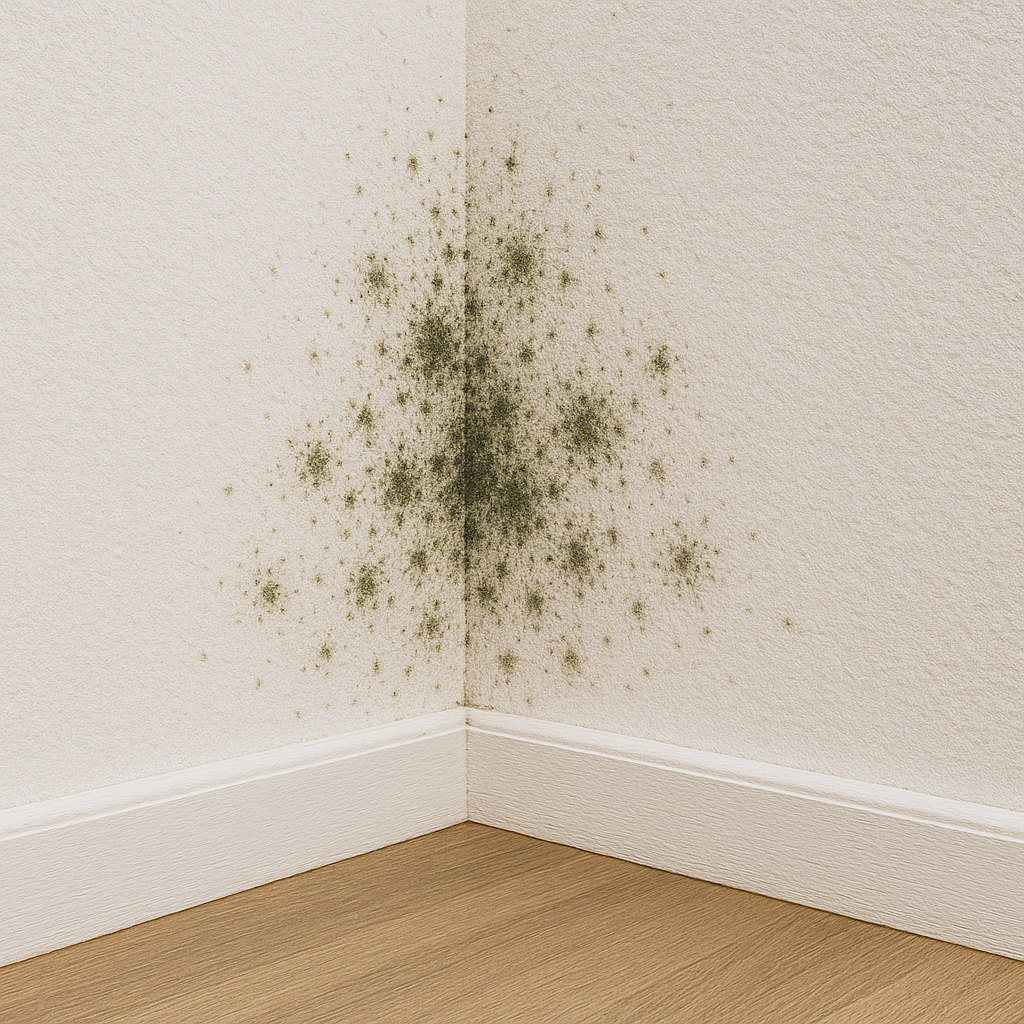schimmel: (376, 258, 463, 576), (468, 309, 547, 592), (566, 388, 614, 480), (299, 427, 337, 511), (501, 207, 546, 277)
